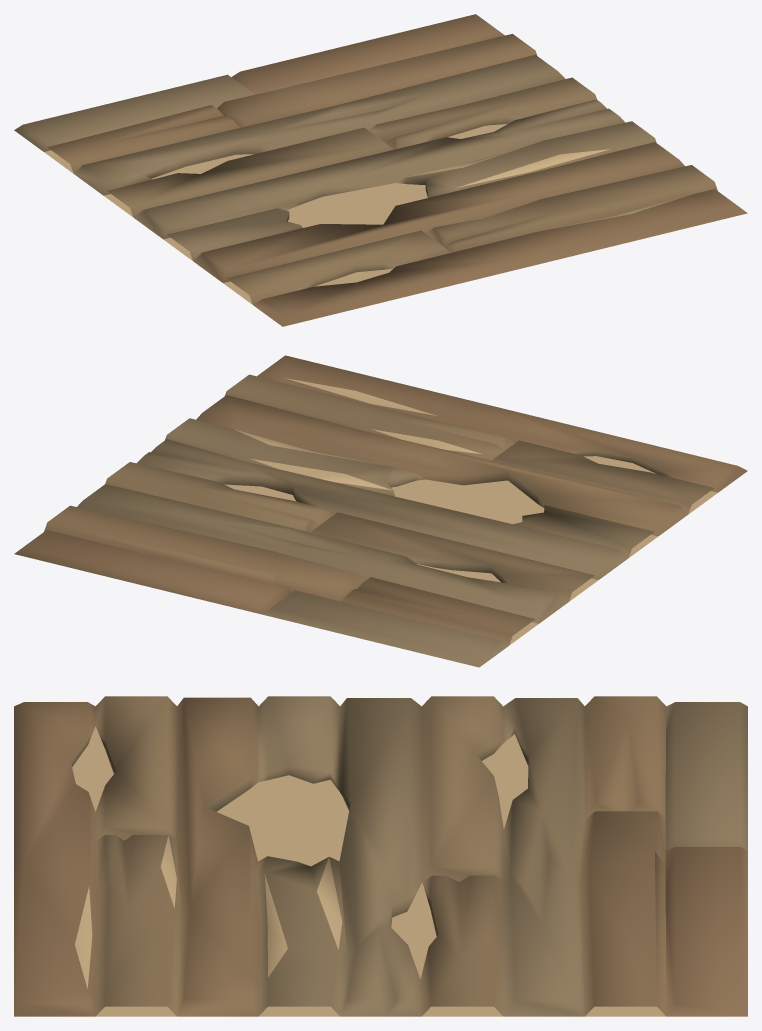
File: rpgpp_av_floor_02b_3x3.gltf
The picture shows the model from 3 angles, top to bottom: view 1: azimuth 30°, elevation 25°; view 2: azimuth 150°, elevation 25°; view 3: azimuth 270°, elevation 25°; orthographic projection. The views are drawn at different scales.
Parts seen in each view (by area): view 1: rpgpp_av_floor_02b_3x3; view 2: rpgpp_av_floor_02b_3x3; view 3: rpgpp_av_floor_02b_3x3.
Part boxes in pixels (x1,y1,x2,y2): rpgpp_av_floor_02b_3x3: (14,14,747,326); rpgpp_av_floor_02b_3x3: (14,355,747,667); rpgpp_av_floor_02b_3x3: (14,696,747,1016).
Size of the model in its own units: 0.03 by 0.000588 by 0.03.
Materials: 1 (1 with a texture image).
